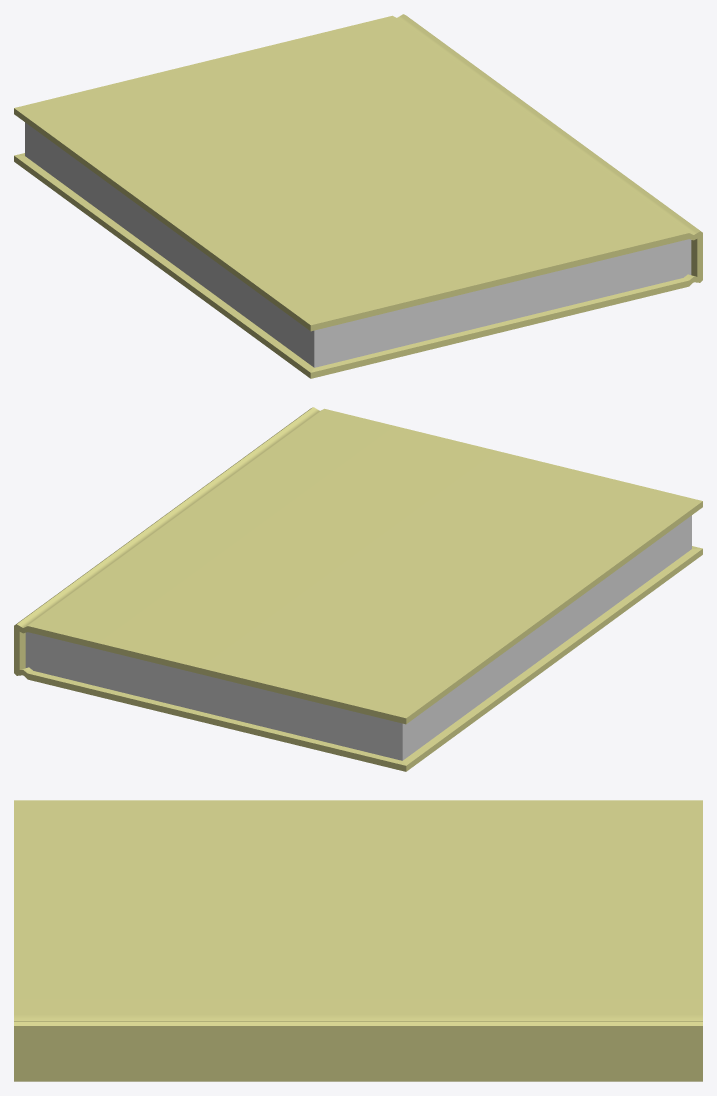
File: BgMD_book3.fbx
3 views of the same model, one above another, from view 1: azimuth 30°, elevation 25°; view 2: azimuth 150°, elevation 25°; view 3: azimuth 270°, elevation 25° (orthographic). The views are drawn at different scales.
Parts seen in each view (by area): view 1: Bg_Book2; view 2: Bg_Book2; view 3: Bg_Book2.
Boxes of the visible parts, bbox=[...] form: Bg_Book2: bbox=[14, 14, 702, 378]; Bg_Book2: bbox=[14, 407, 702, 771]; Bg_Book2: bbox=[14, 800, 702, 1081].
Bounding box in the file's own units: 14.8 × 1.93 × 19.4.
Materials: 1 (1 with a texture image).
